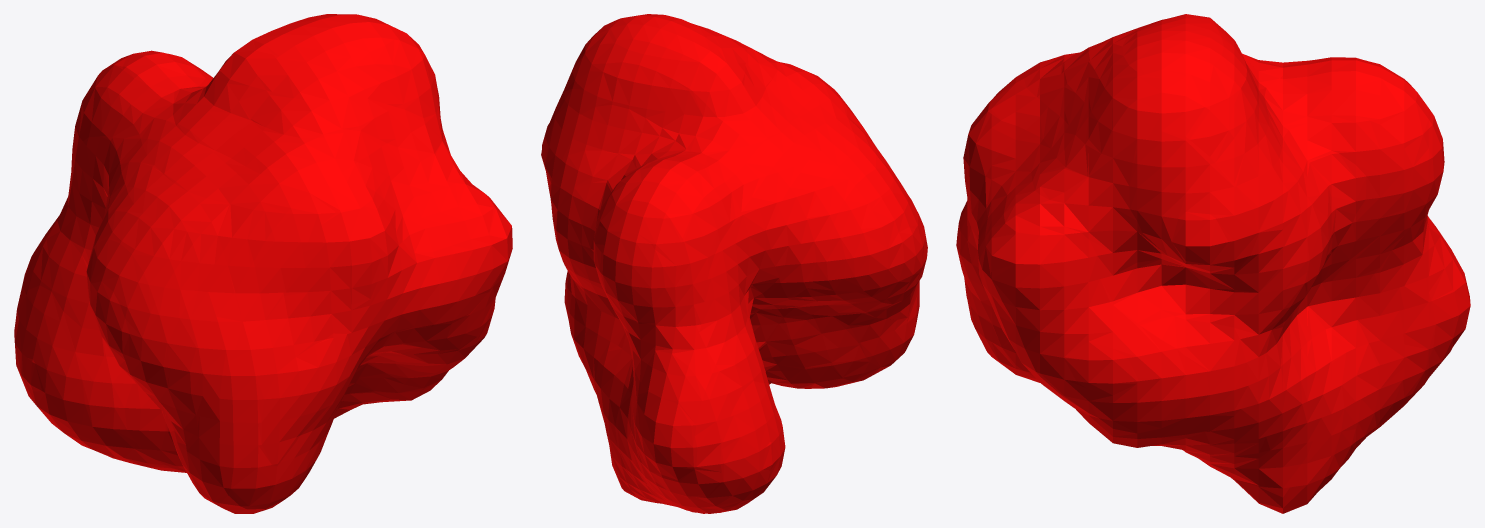
The model's file is flgM_coarse.dae.
3 renders of one model, left to right at view 1: azimuth 30°, elevation 25°; view 2: azimuth 150°, elevation 25°; view 3: azimuth 270°, elevation 25°, orthographic. The views are drawn at different scales.
Parts seen in each view (by area): view 1: flgM; view 2: flgM; view 3: flgM.
Part boxes in pixels (x1,y1,x2,y2): flgM: [14, 14, 512, 513]; flgM: [541, 14, 927, 513]; flgM: [956, 14, 1470, 513].
Size of the model in its own units: 32.52 by 40.25 by 37.98.
